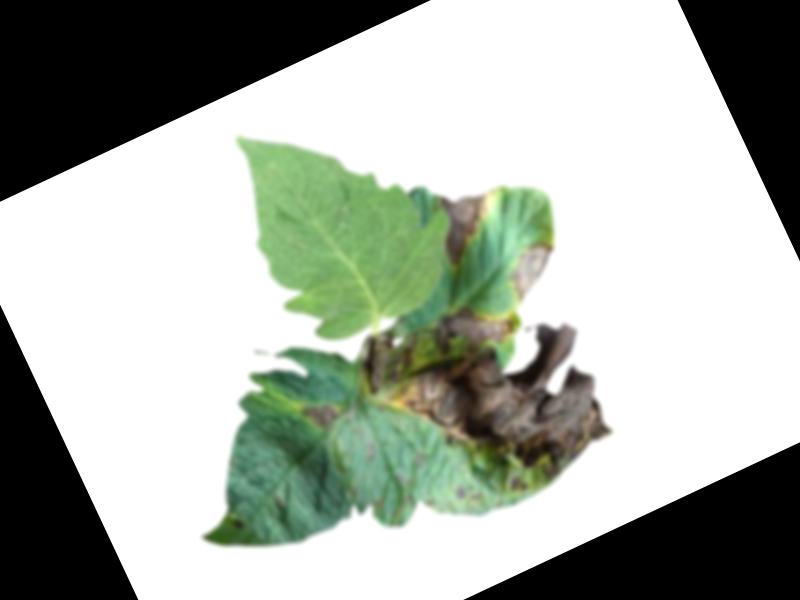Early_blight: (380, 299, 634, 530), (423, 286, 520, 368), (424, 180, 510, 267), (347, 318, 433, 396), (501, 237, 569, 300), (301, 395, 341, 433), (231, 514, 245, 531)
healthy: (208, 67, 479, 358)
